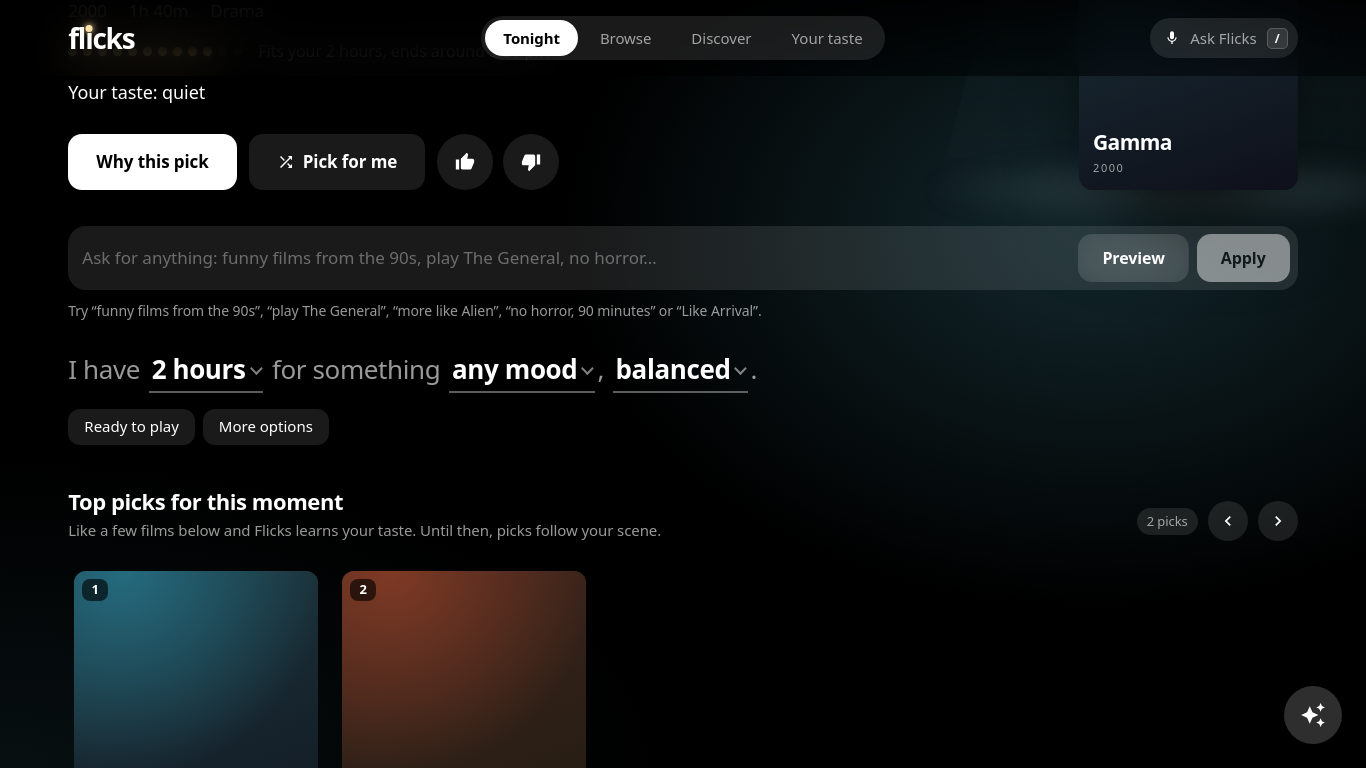
Test: the scene can be limited to what can be played now
This screenshot has width=1366, height=768.
(page scrolled)
Click the button "Ready to play" at coordinates (132, 427), box x1=68 y1=409 x2=195 y2=445
(page scrolled)
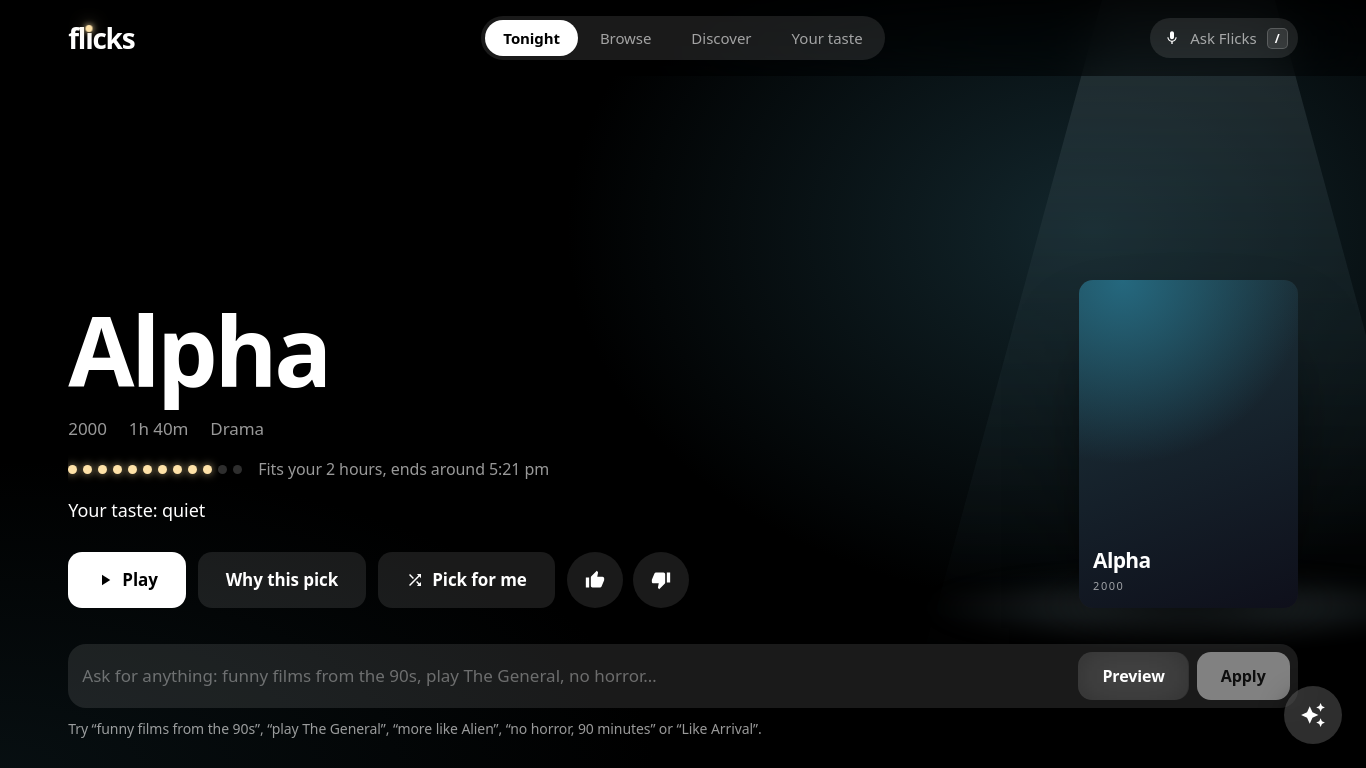
Expected: the heading named "Alpha" is shown, x1=68 y1=284 x2=329 y2=415
